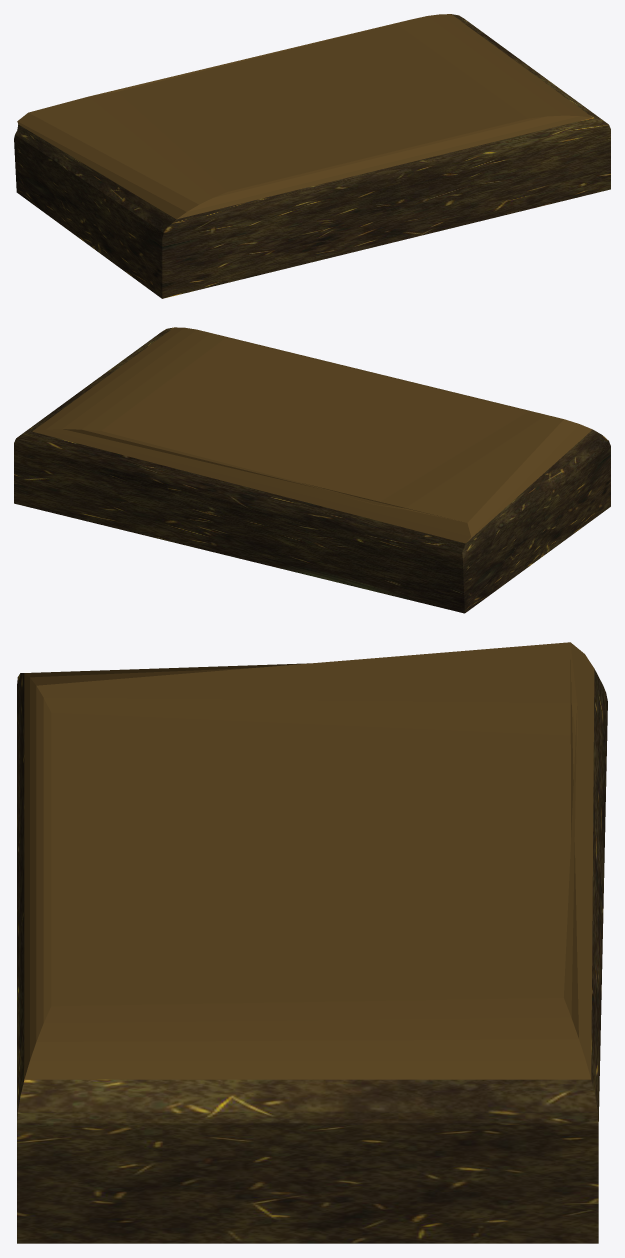
Rendered from GrassTerrain_002_textured.glb.
3 renders of one model, top to bottom at view 1: azimuth 30°, elevation 25°; view 2: azimuth 150°, elevation 25°; view 3: azimuth 270°, elevation 25°, orthographic. The views are drawn at different scales.
Parts seen in each view (by area): view 1: 立方体.002; view 2: 立方体.002; view 3: 立方体.002.
Part boxes in pixels (x1=…): 立方体.002: x1=14, y1=14, x2=610, y2=298; 立方体.002: x1=14, y1=327, x2=610, y2=613; 立方体.002: x1=17, y1=642, x2=607, y2=1243.
Size of the model in its own units: 966 by 173 by 547.
2 materials, 1 textured.
